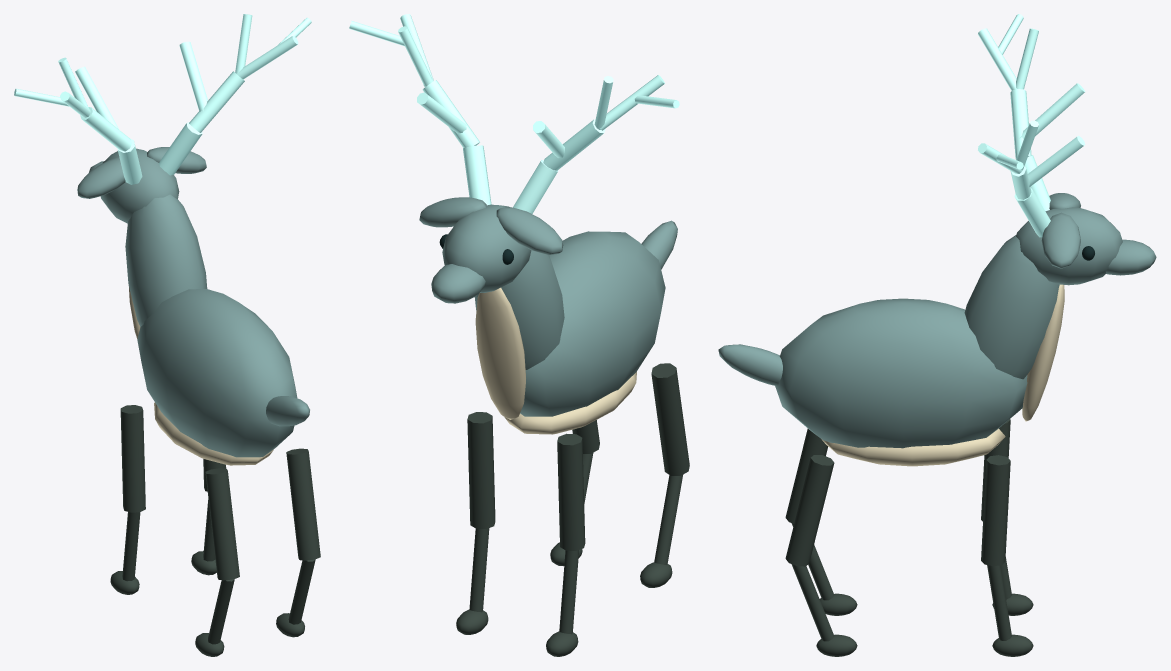
The model's file is glass-stag.glb.
3 renders of one model, left to right at view 1: azimuth 30°, elevation 25°; view 2: azimuth 150°, elevation 25°; view 3: azimuth 270°, elevation 25°, orthographic. The views are drawn at different scales.
Parts seen in each view (by area): view 1: body, antlers, head, leg-3, leg-2, leg-0, markings, leg-1; view 2: body, head, antlers, markings, leg-2, leg-1, leg-0, leg-3; view 3: body, head, antlers, markings, leg-3, leg-1, leg-2, leg-0.
Boxes of the visible parts, x1=… form: body: x1=125, y1=194, x2=309, y2=457; antlers: x1=14, y1=14, x2=311, y2=184; head: x1=77, y1=147, x2=206, y2=223; leg-3: x1=276, y1=448, x2=320, y2=637; leg-2: x1=195, y1=468, x2=239, y2=656; leg-0: x1=110, y1=405, x2=145, y2=594; markings: x1=129, y1=287, x2=273, y2=465; leg-1: x1=191, y1=459, x2=226, y2=575; body: x1=474, y1=220, x2=677, y2=416; head: x1=419, y1=197, x2=563, y2=303; antlers: x1=349, y1=14, x2=679, y2=213; markings: x1=475, y1=287, x2=636, y2=434; leg-2: x1=640, y1=363, x2=689, y2=587; leg-1: x1=456, y1=412, x2=495, y2=634; leg-0: x1=546, y1=433, x2=585, y2=656; leg-3: x1=550, y1=420, x2=599, y2=566; body: x1=718, y1=235, x2=1059, y2=448; head: x1=1016, y1=193, x2=1156, y2=285; antlers: x1=978, y1=14, x2=1085, y2=237; markings: x1=821, y1=284, x2=1064, y2=466; leg-3: x1=785, y1=455, x2=857, y2=656; leg-1: x1=981, y1=455, x2=1033, y2=656; leg-2: x1=785, y1=428, x2=857, y2=615; leg-0: x1=981, y1=419, x2=1033, y2=615.
Size of the model in its own units: 1.98 by 3.44 by 2.44.
